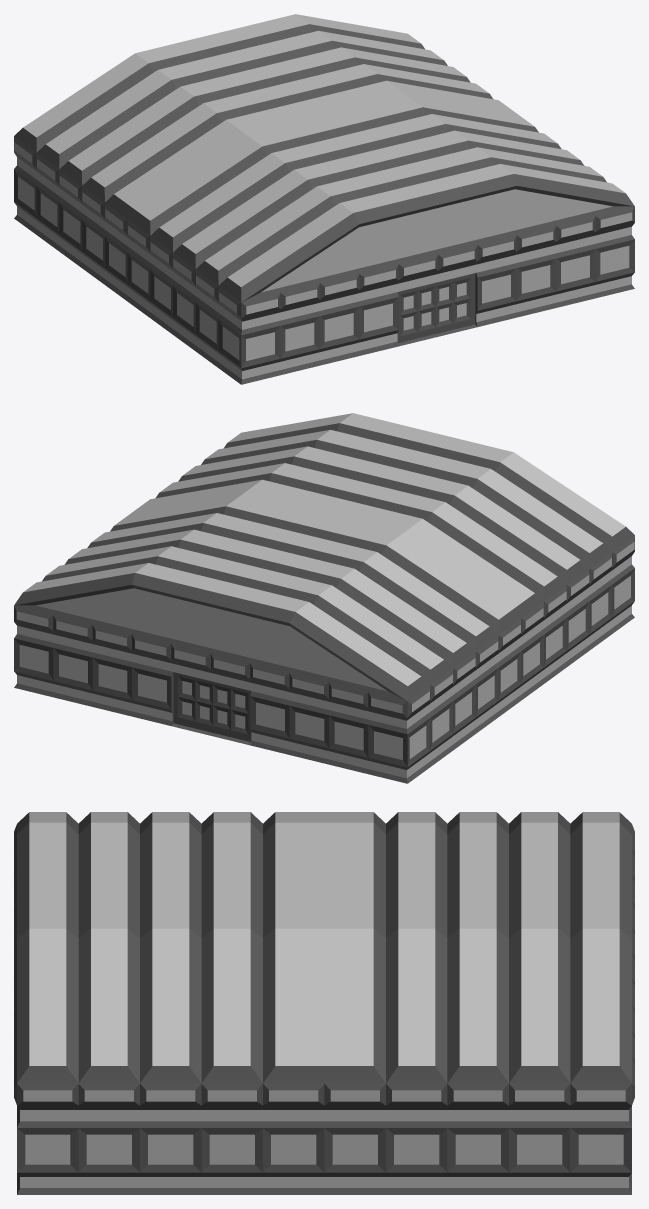
File: Warehouse.dae
3 renders of one model, top to bottom at view 1: azimuth 30°, elevation 25°; view 2: azimuth 150°, elevation 25°; view 3: azimuth 270°, elevation 25°, orthographic. The views are drawn at different scales.
Parts seen in each view (by area): view 1: Warehouse; view 2: Warehouse; view 3: Warehouse.
Part boxes in pixels (<box>): Warehouse: <box>14,14,634,384</box>; Warehouse: <box>14,413,634,783</box>; Warehouse: <box>14,812,634,1194</box>.
Size of the model in its own units: 101 by 101 by 34.
